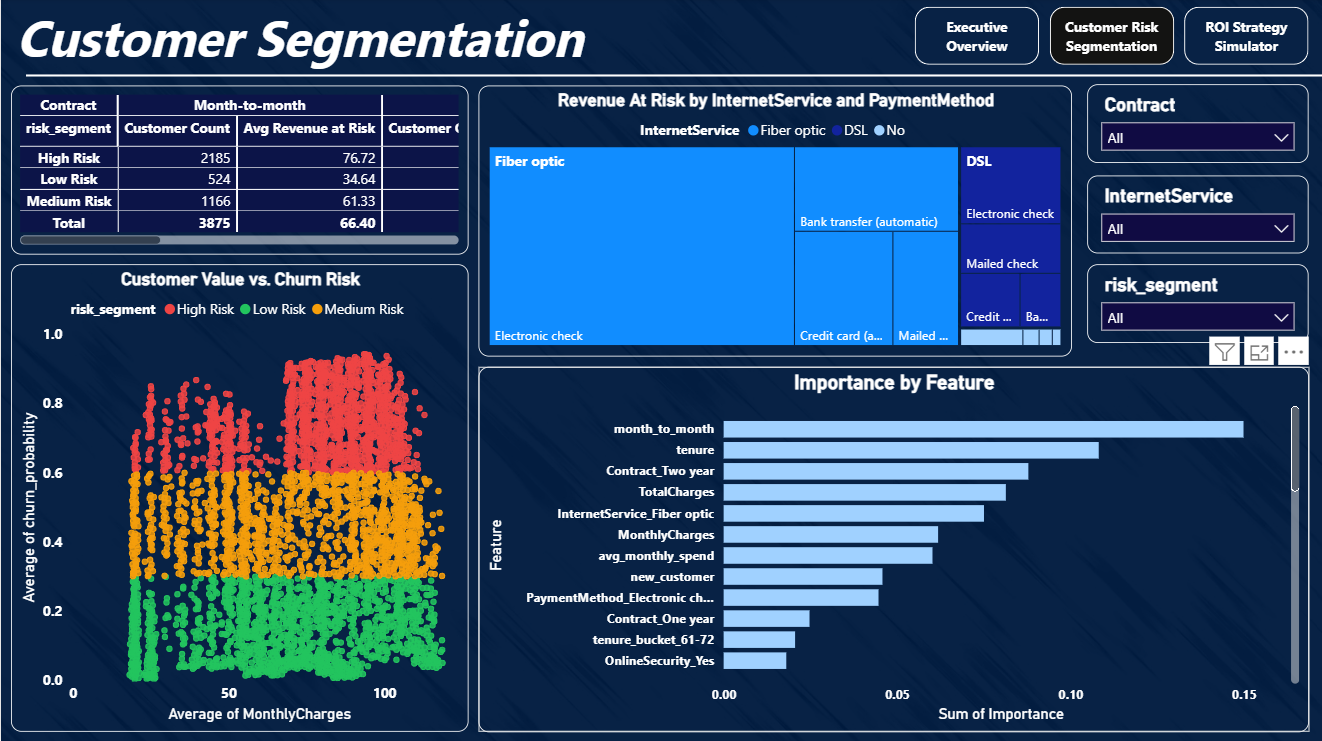

What the dashboard file says about the page in this screenshot:
{"tool":"powerbi","page":{"name":"Customer Risk Segmentation","canvas":[1280,720],"ordinal":1},"visuals":[{"type":"textbox","box":[9.6,0,693,74.1],"z":0},{"type":"shape","box":[24.7,0,1255.6,149.6],"z":1000},{"type":"pivotTable","fields":{"Rows":["churn_analysis customers.risk_segment"],"Columns":["churn_analysis customers.Contract"],"Values":["CountNonNull(churn_analysis customers.customerID)","churn_analysis customers.Avg Revenue at Risk"]},"box":[10,84.3,441.4,162.9],"z":2000},{"type":"scatterChart","title":"Customer Value vs. Churn Risk","fields":{"Series":["churn_analysis customers.risk_segment"],"X":["Avg(churn_analysis customers.MonthlyCharges)"],"Y":["Avg(churn_analysis customers.churn_probability)"],"Category":["churn_analysis customers.customerID"]},"box":[10,257.1,441.4,451.4],"z":3000},{"type":"treemap","fields":{"Group":["churn_analysis customers.InternetService"],"Details":["churn_analysis customers.PaymentMethod"],"Values":["churn_analysis customers.Revenue At Risk"]},"box":[461.4,84.3,572.9,261.4],"z":4000},{"type":"clusteredBarChart","title":"Importance by Feature","fields":{"Category":["churn_analysis feature_importance.Feature"],"Y":["Sum(churn_analysis feature_importance.Importance)"]},"box":[461.4,355.7,801.4,352.9],"z":5000},{"type":"slicer","fields":{"Values":["churn_analysis customers.Contract"]},"box":[1048.8,83.8,213.8,76.2],"z":6000},{"type":"slicer","fields":{"Values":["churn_analysis customers.InternetService"]},"box":[1048.8,171.2,213.8,75],"z":7000},{"type":"slicer","fields":{"Values":["churn_analysis customers.risk_segment"]},"box":[1048.8,257.5,213.8,76.2],"z":8000},{"type":"pageNavigator","box":[881.9,8.4,380,56.7],"z":9000}]}

Visuals, with their boxes in screenshot pixels (x1, y1, x2, y2), scaled from the page's 1280x720 canvas onto the 1322x741 screenshot:
textbox: locate(10, 0, 726, 76)
shape: locate(26, 0, 1321, 154)
pivotTable - churn_analysis customers.risk_segment x churn_analysis customers.Contract: locate(10, 87, 466, 254)
"Customer Value vs. Churn Risk" scatterChart: locate(10, 265, 466, 729)
treemap - churn_analysis customers.InternetService x churn_analysis customers.PaymentMethod: locate(477, 87, 1068, 356)
"Importance by Feature" clusteredBarChart: locate(477, 366, 1304, 729)
slicer - churn_analysis customers.Contract: locate(1083, 86, 1304, 165)
slicer - churn_analysis customers.InternetService: locate(1083, 176, 1304, 253)
slicer - churn_analysis customers.risk_segment: locate(1083, 265, 1304, 343)
pageNavigator: locate(911, 9, 1303, 67)
